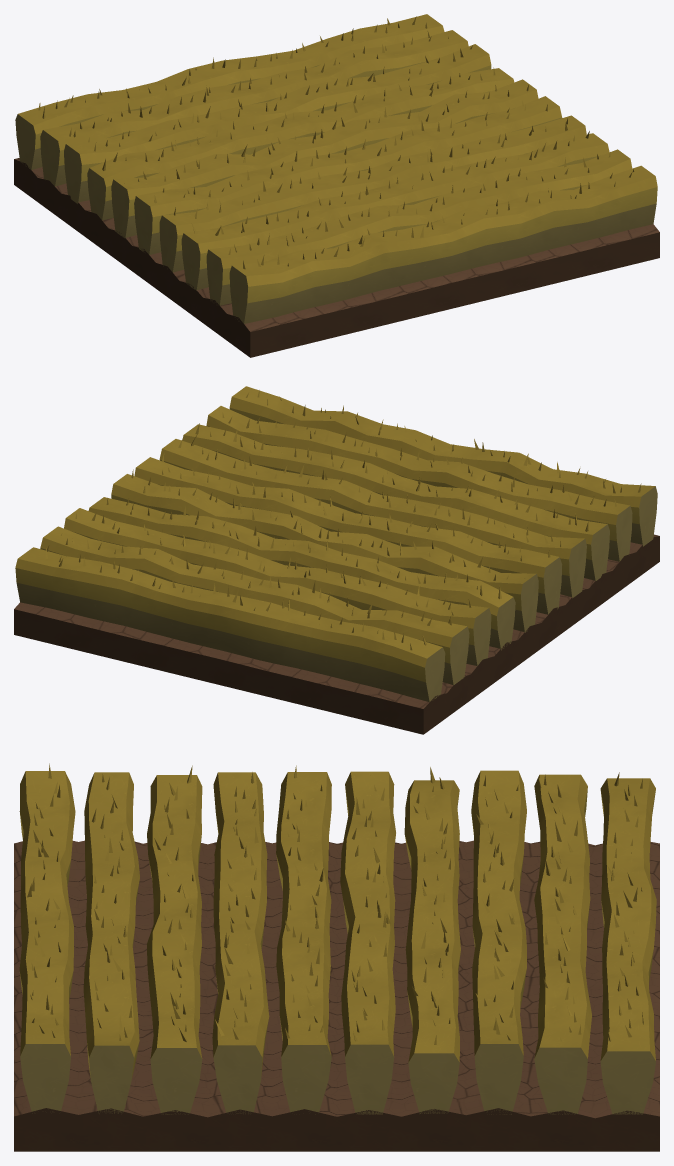
File: field_wheat.glb
The picture shows the model from 3 angles, top to bottom: view 1: azimuth 30°, elevation 25°; view 2: azimuth 150°, elevation 25°; view 3: azimuth 270°, elevation 25°; orthographic projection. The views are drawn at different scales.
Visible parts, largest first — view 1: field_wheat; view 2: field_wheat; view 3: field_wheat.
Boxes of the visible parts, x1,y1,x2,y2 form: field_wheat: (14, 14, 659, 357); field_wheat: (14, 386, 659, 734); field_wheat: (14, 763, 659, 1151).
Size of the model in its own units: 8 by 1.65 by 8.
5 materials, 5 textured.
